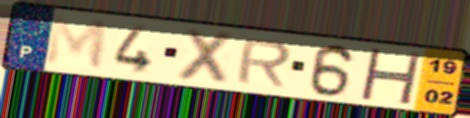4: (111, 24, 156, 76)
6: (308, 42, 358, 99)
H: (357, 46, 424, 106)
M: (42, 13, 110, 72)
R: (232, 37, 295, 89)
X: (173, 26, 238, 88)
